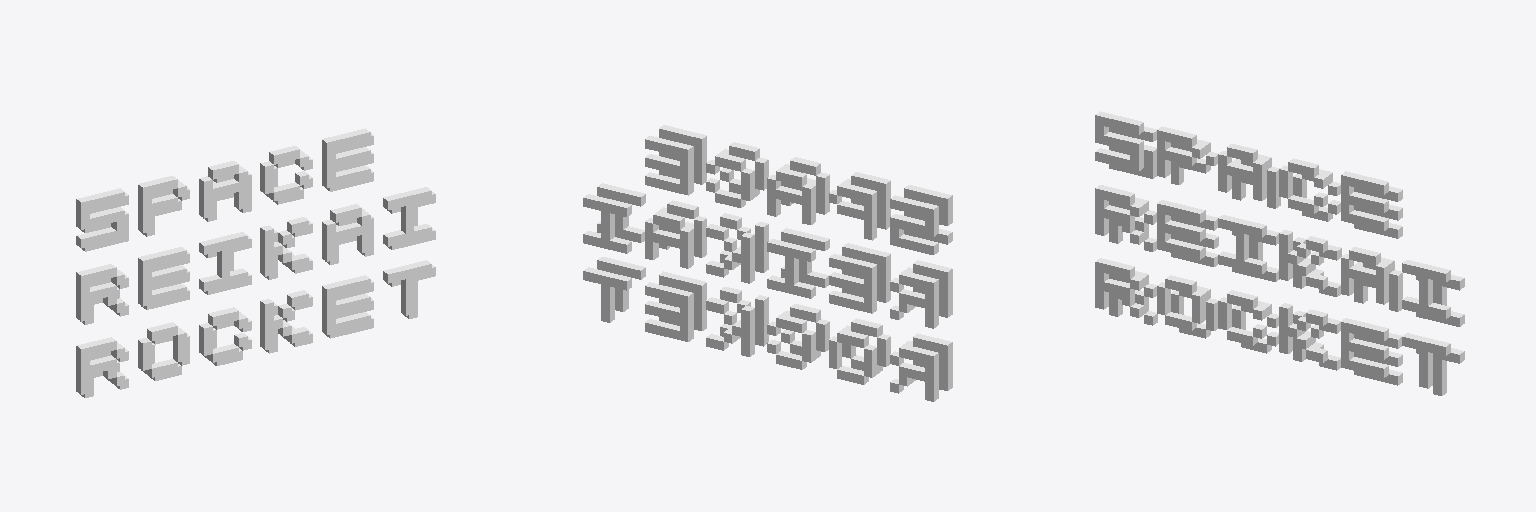
File: spacereikairocket.obj
The picture shows the model from 3 angles: view 1: azimuth 30°, elevation 25°; view 2: azimuth 150°, elevation 25°; view 3: azimuth 330°, elevation 25°; orthographic projection.
Size of the model in its own units: 41 by 22 by 2.